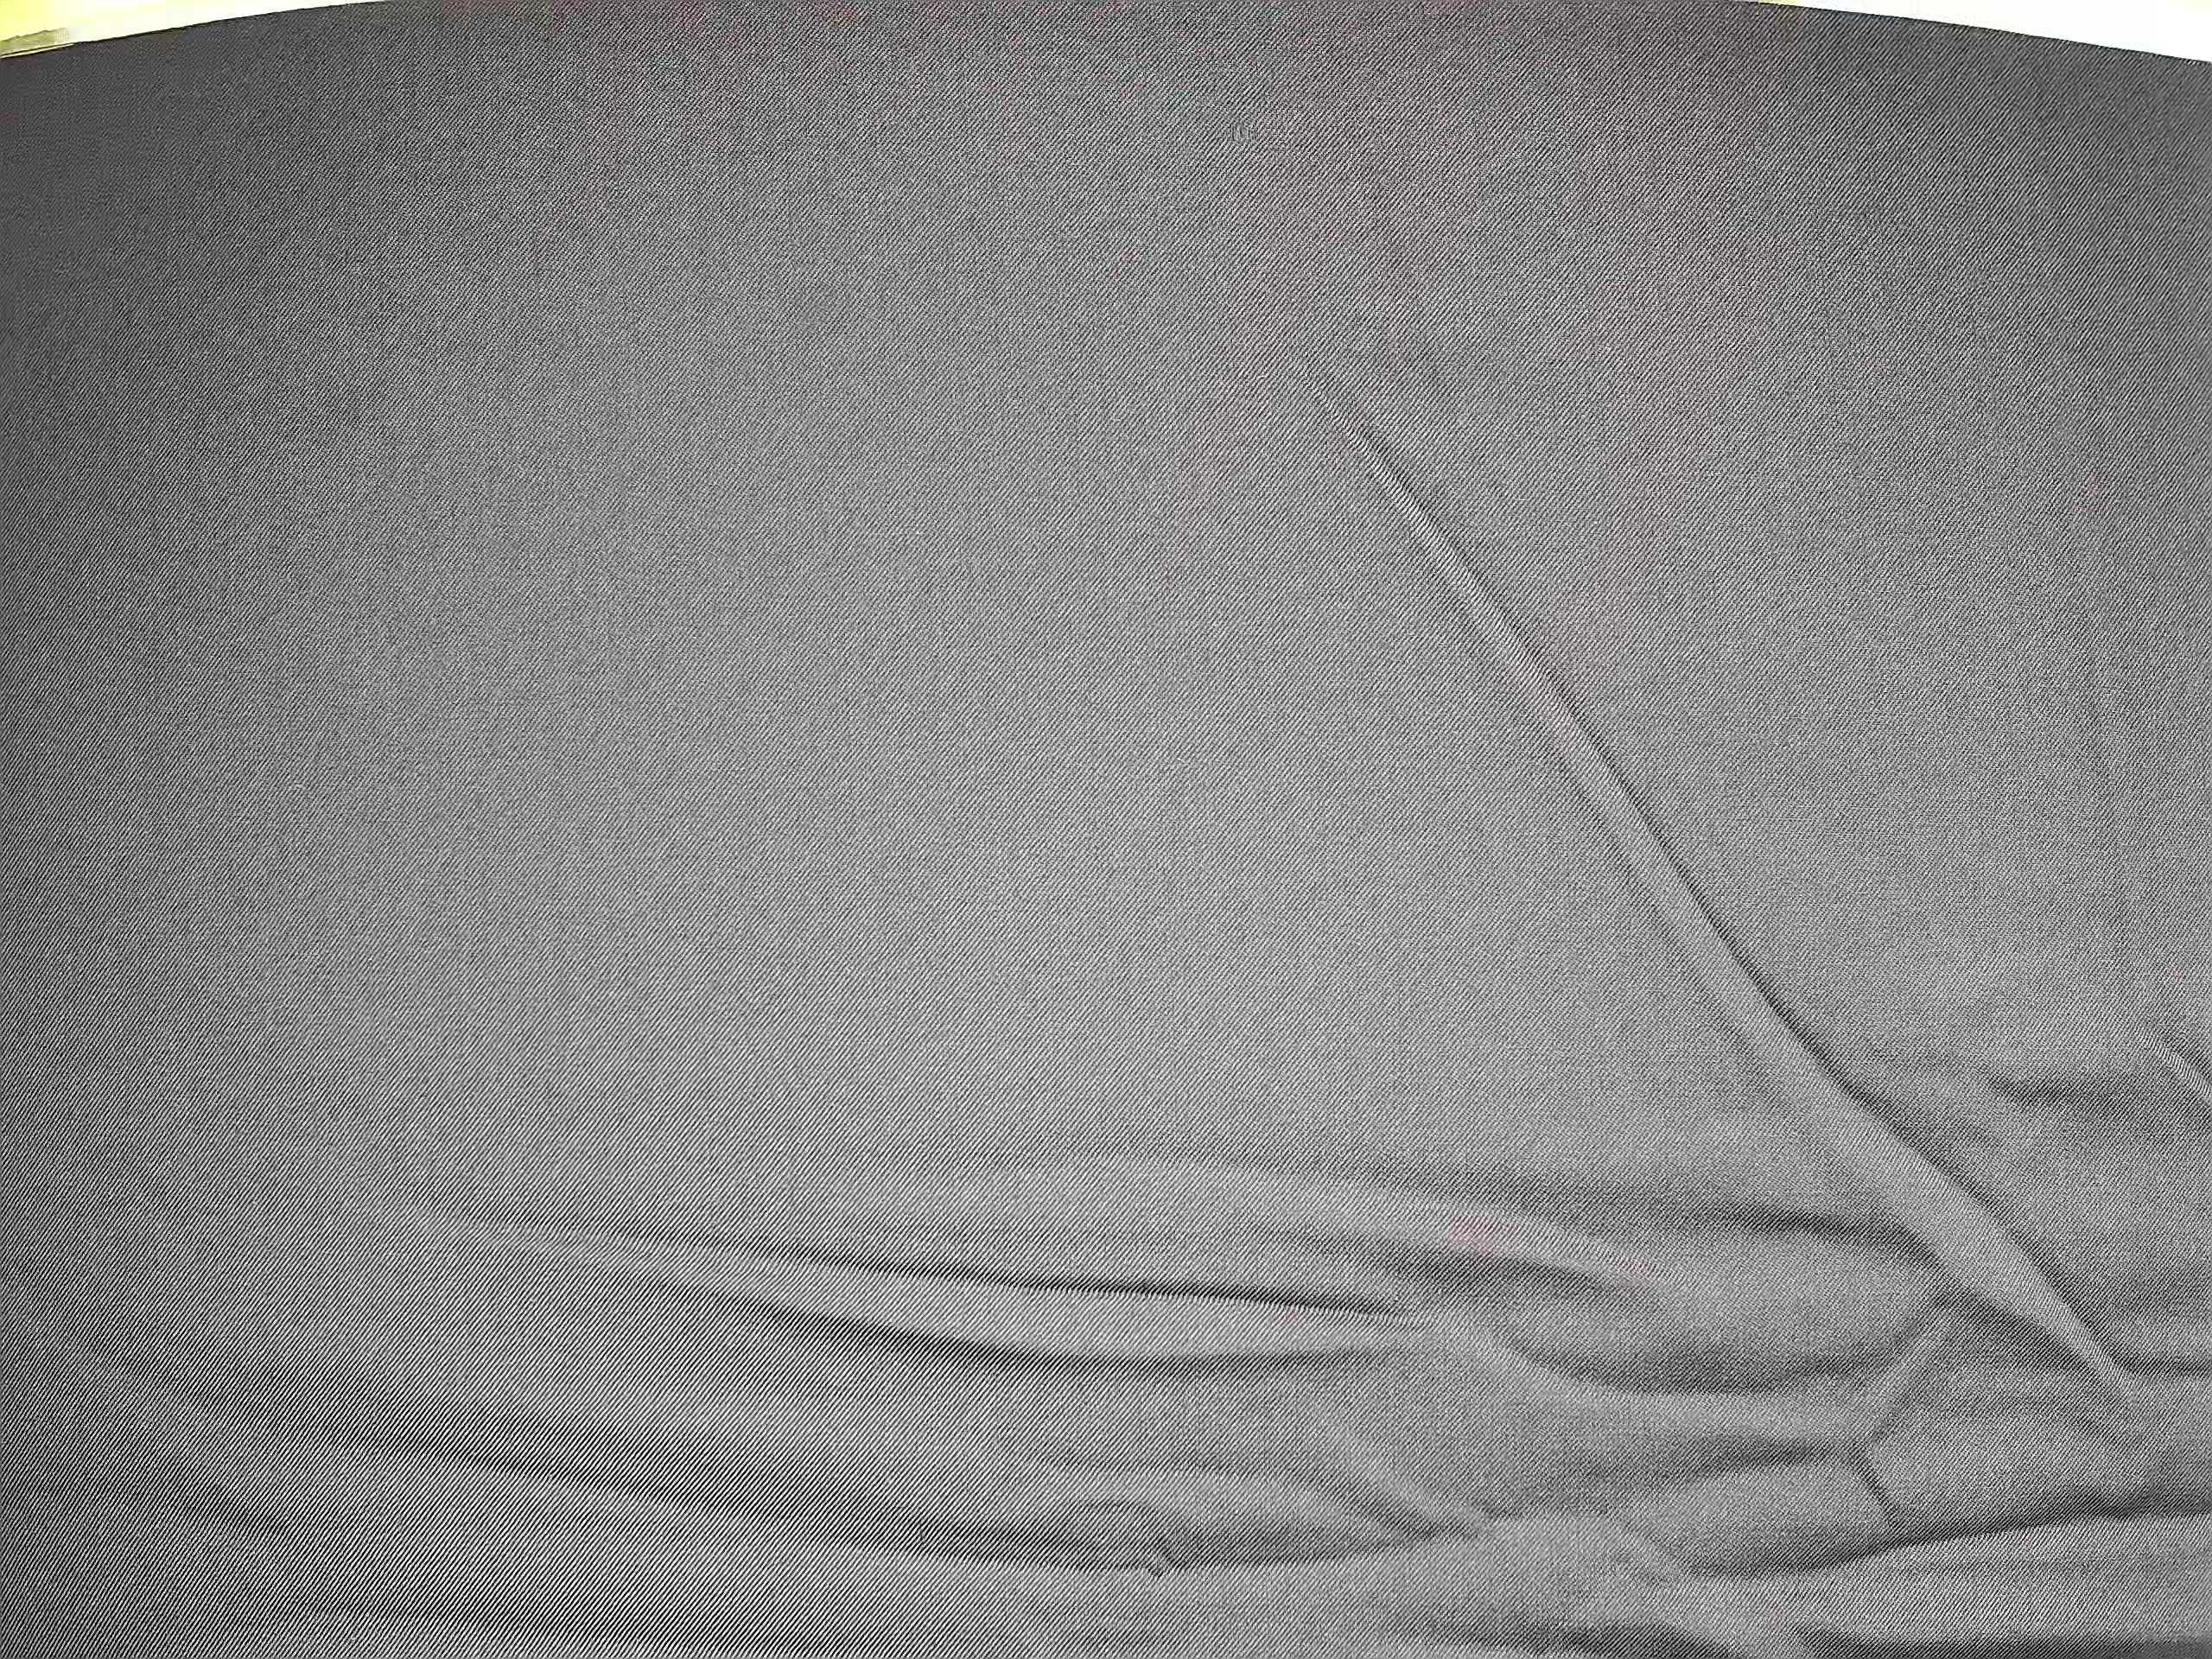brushed-hole: (1205, 108, 1291, 157)
